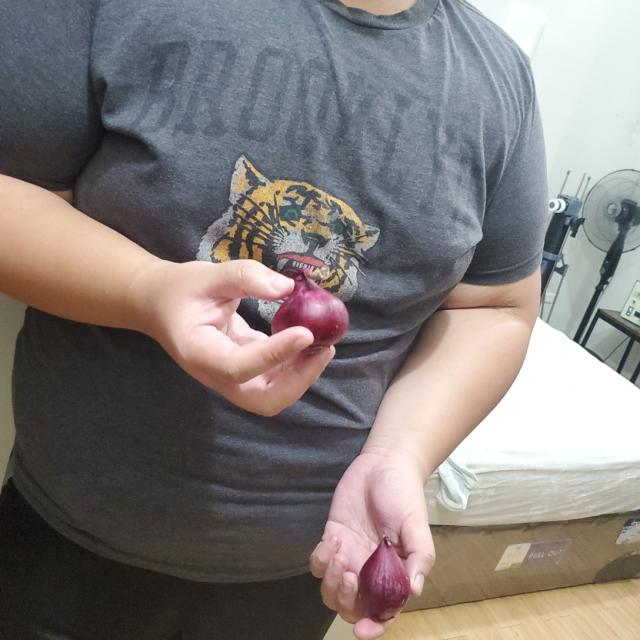onion: (274, 271, 349, 344), (359, 538, 409, 616)
